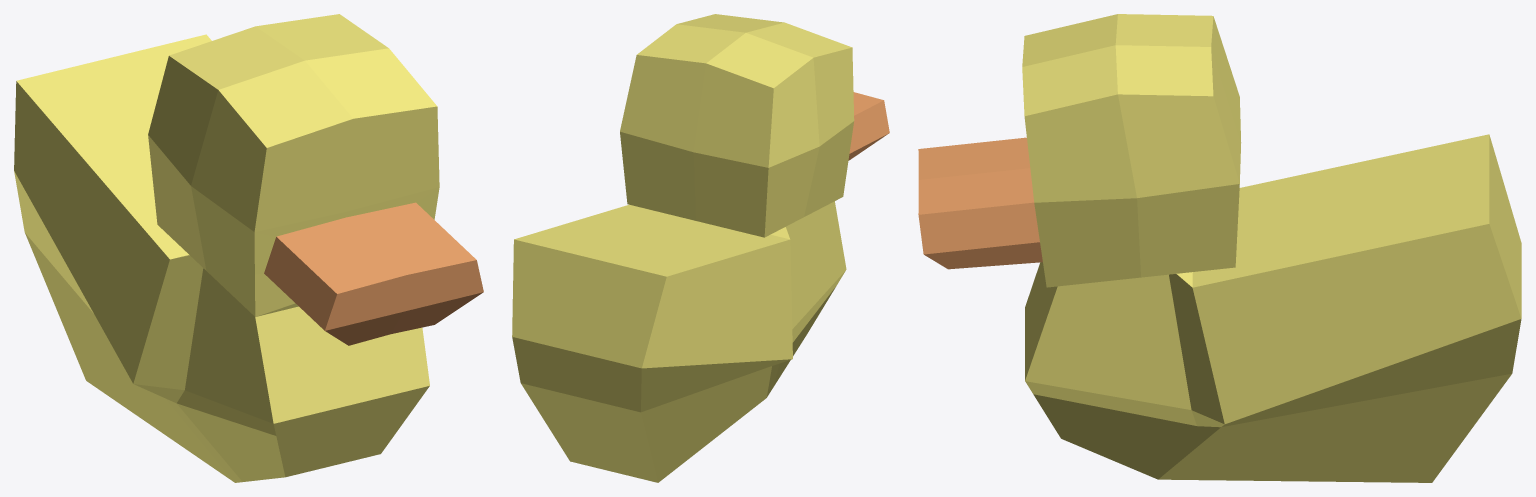
Rendered from ducky.glb.
3 views of the same model, side by side, from view 1: azimuth 30°, elevation 25°; view 2: azimuth 150°, elevation 25°; view 3: azimuth 270°, elevation 25° (orthographic). The views are drawn at different scales.
Visible parts, largest first — view 1: Cube; view 2: Cube; view 3: Cube.
Boxes of the visible parts, left/top/right/bottom form: Cube: left=14, top=14, right=483, bottom=482; Cube: left=512, top=14, right=889, bottom=482; Cube: left=918, top=14, right=1521, bottom=482.
Size of the model in its own units: 1.79 by 3.17 by 4.21.
